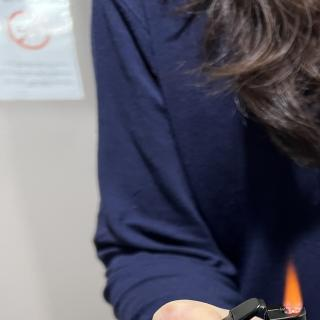fire: (280, 265, 306, 315)
